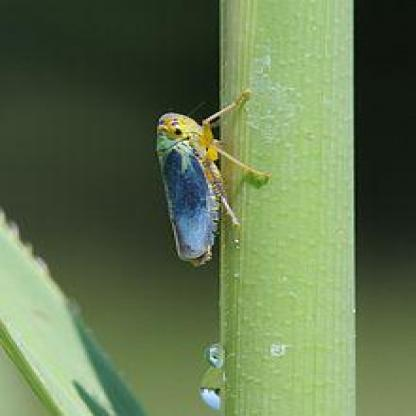Green-Leafhopper: (148, 92, 274, 268)
